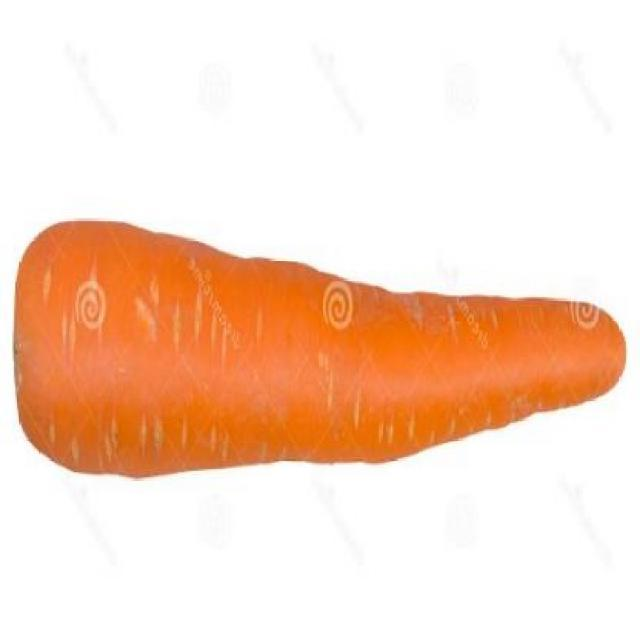carrot: (11, 206, 636, 510)
